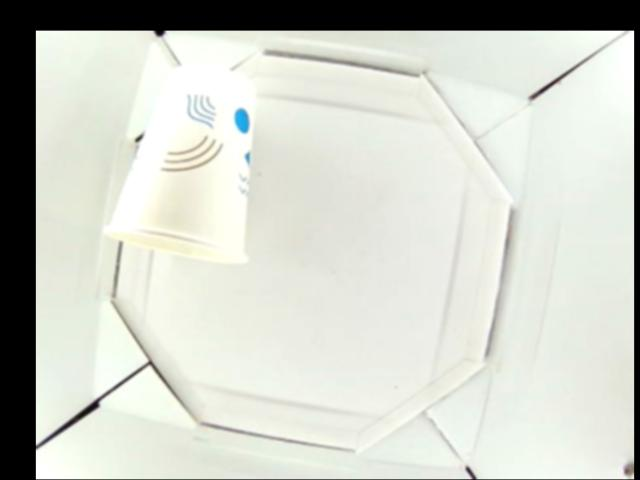Cup: (105, 62, 259, 268)
